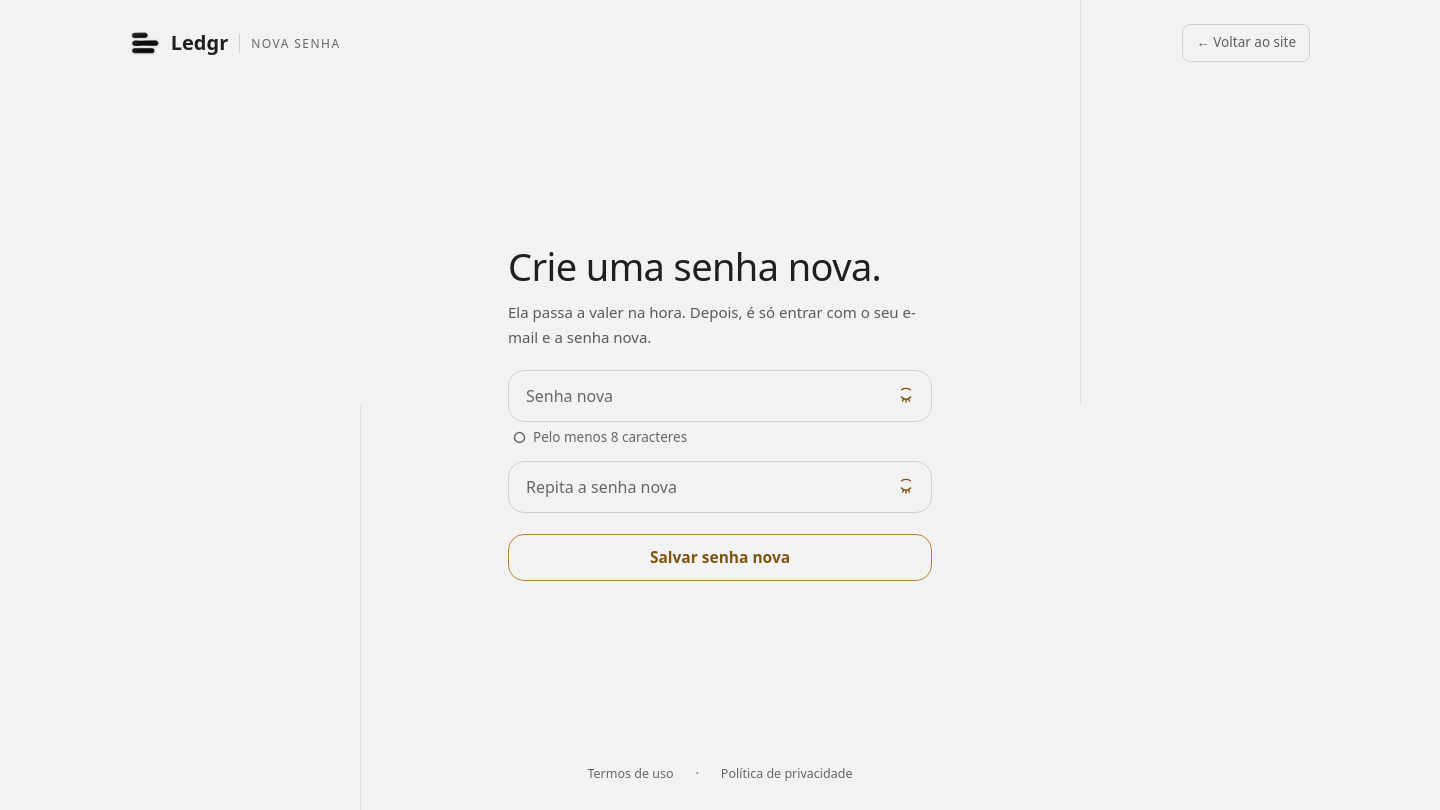
Test: RedefinirSenhaPage › manda o token e a senha nova, e depois leva para o login
Type "s3nha-nova-forte" into the password field labelled "Senha nova" at (720, 396), box [508,370,932,422]
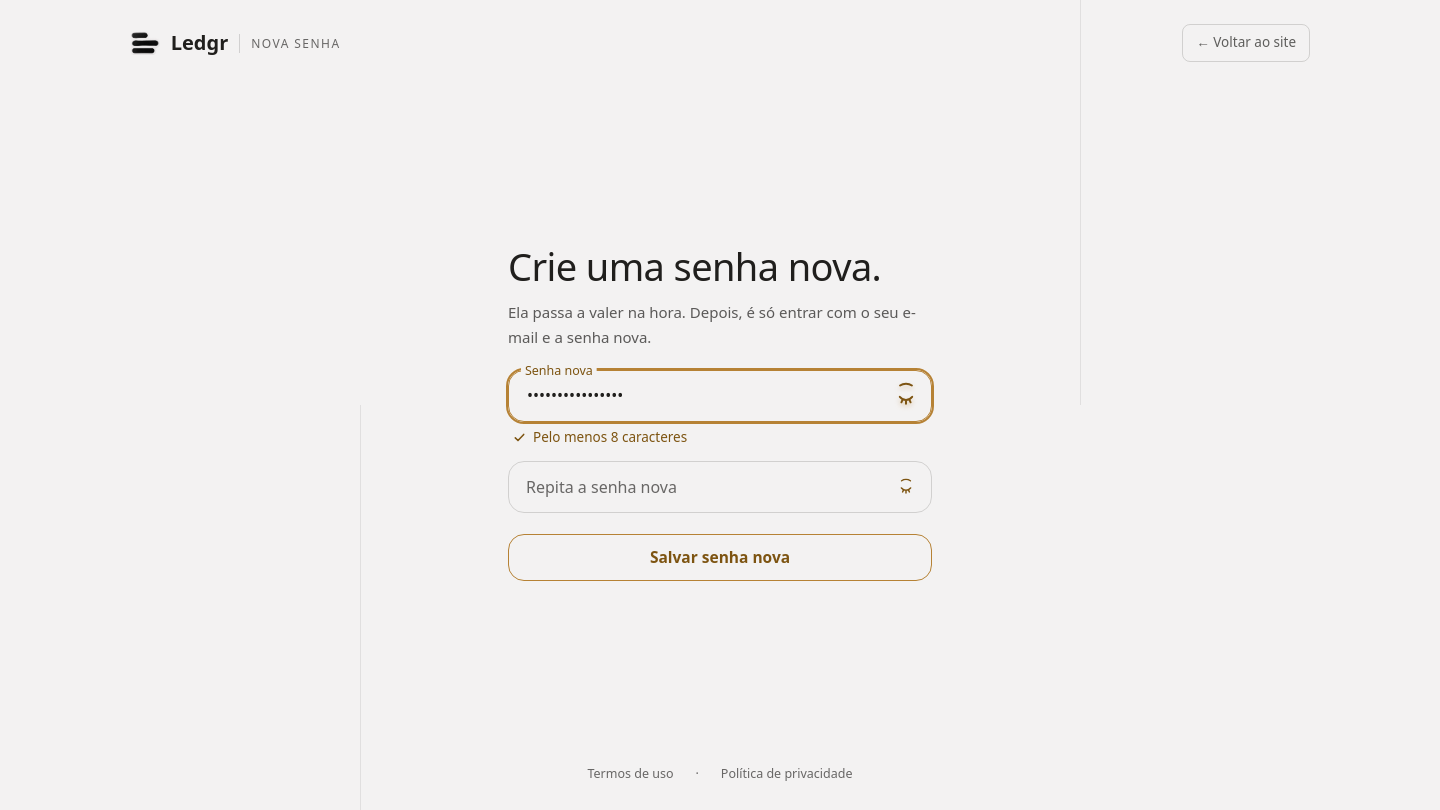
Type "s3nha-nova-forte" into the password field labelled "Repita a senha nova" at (720, 487), box [508,461,932,513]
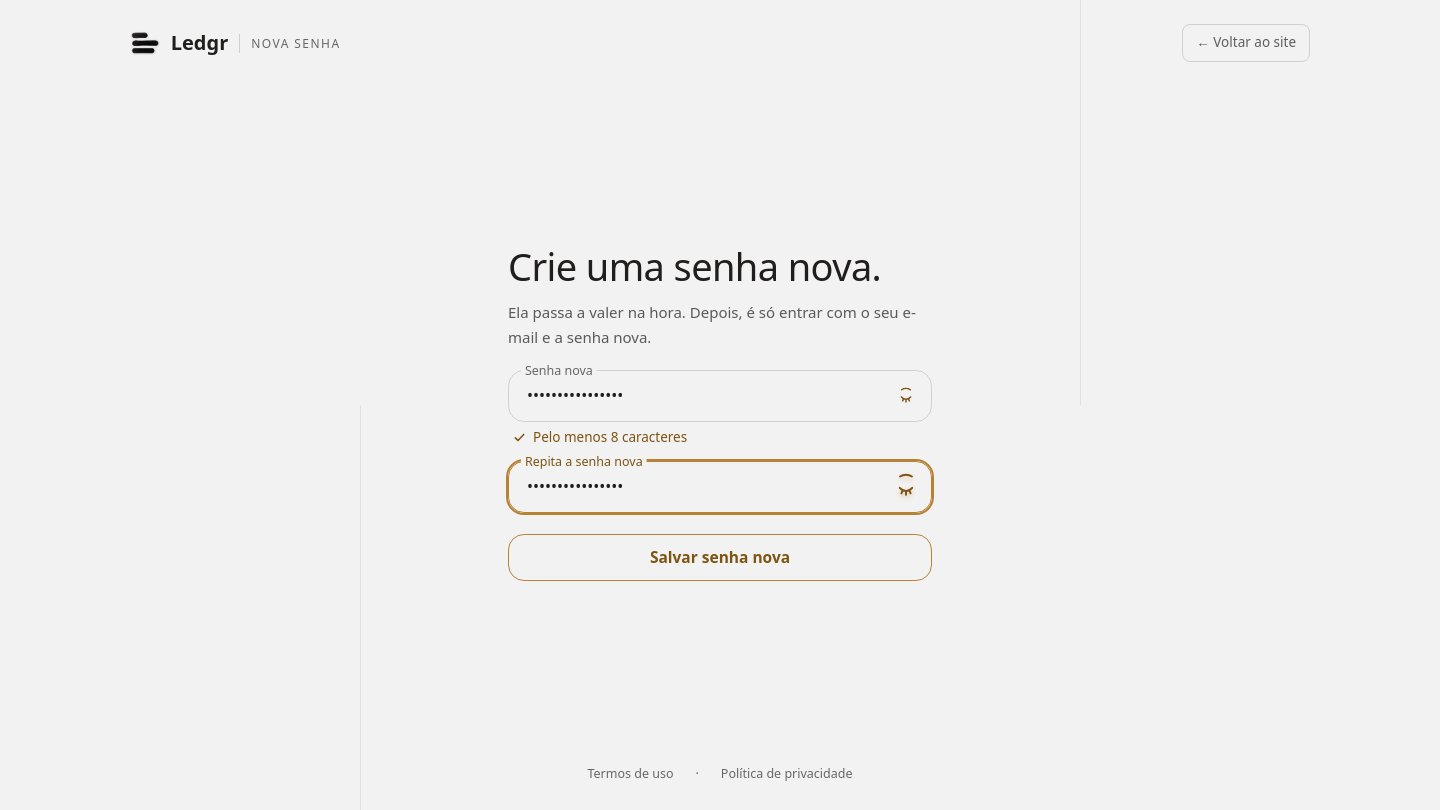
Click the button "Salvar senha nova" at (720, 557), box [508,534,932,580]
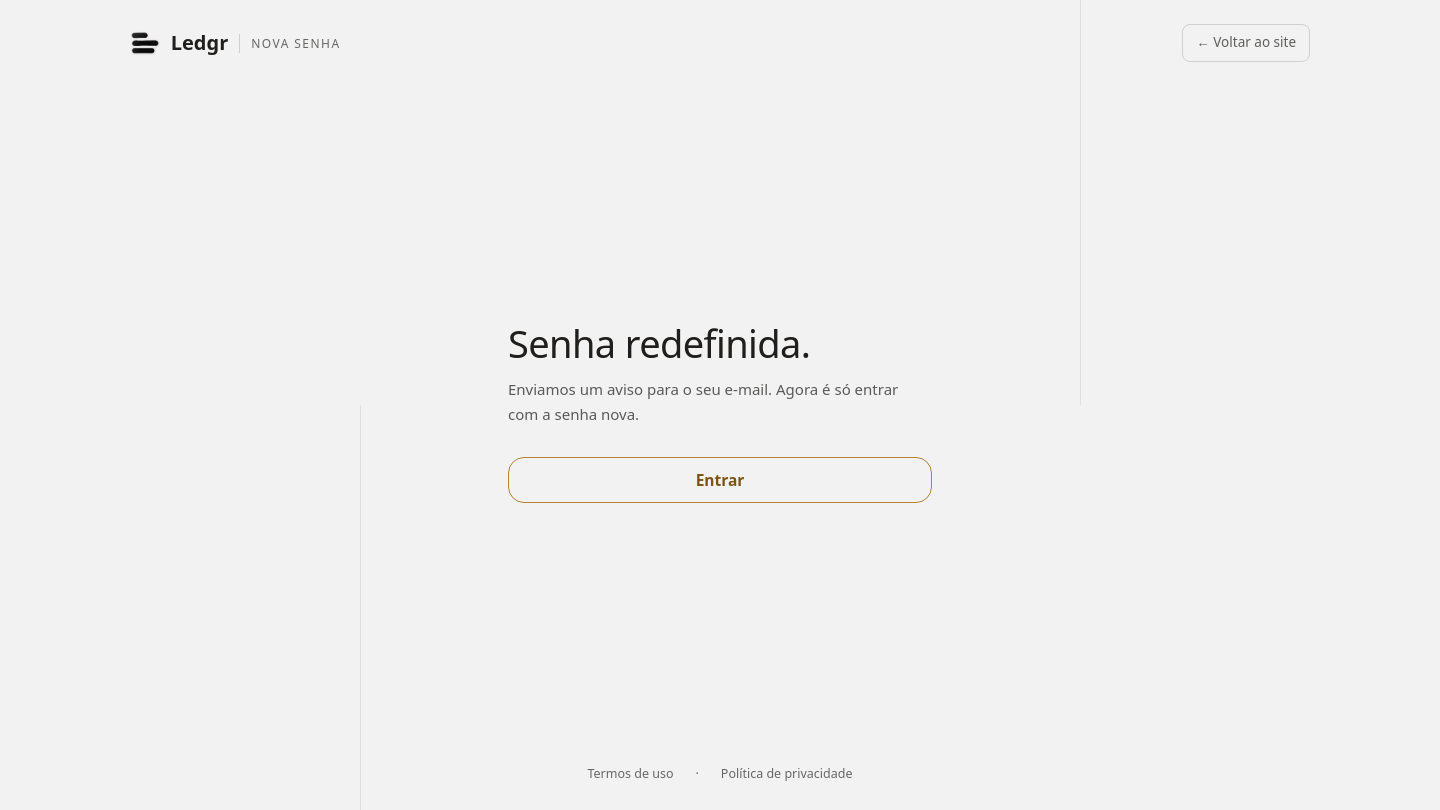
Check: the heading "Senha redefinida." is shown, box [508,317,810,369]
Check: the text "aviso para o seu e-mail" is shown, box [508,379,898,424]
